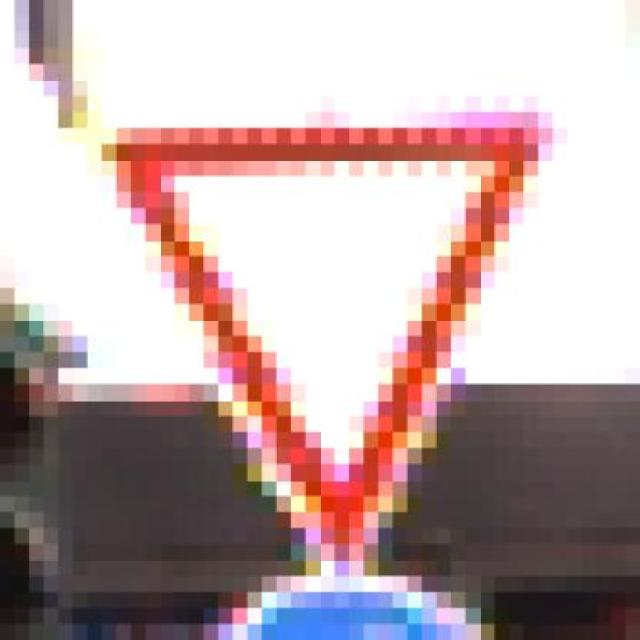Give Way: (84, 94, 608, 591)
